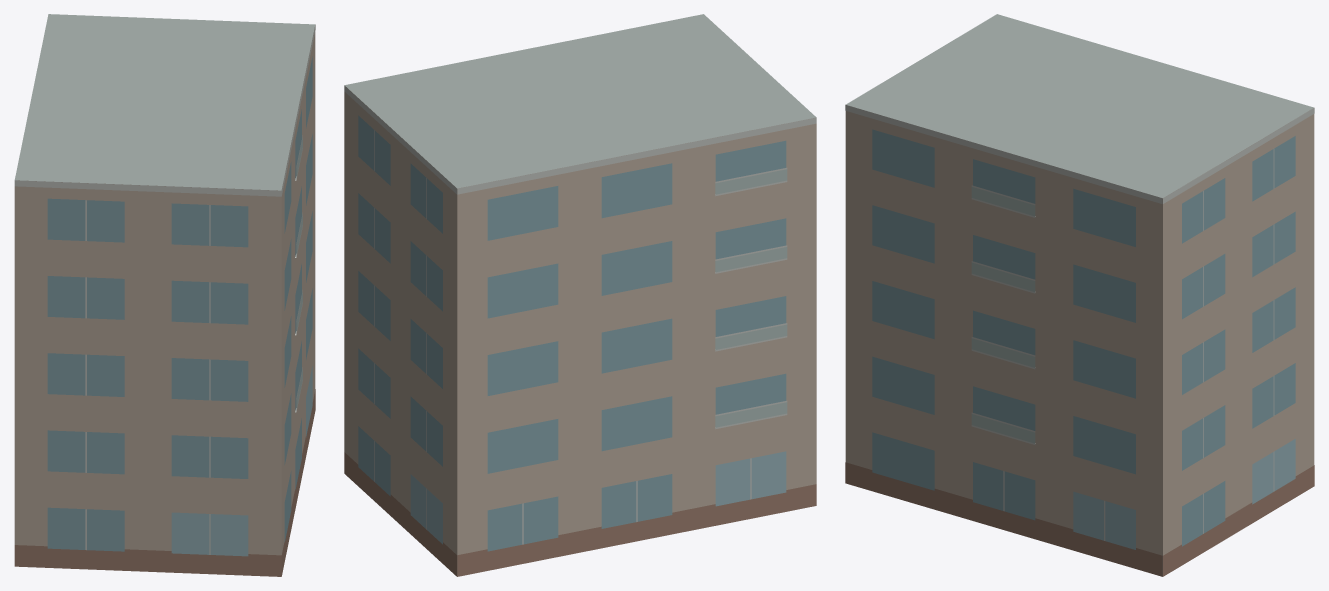
Rendered from survey-upis-32551061.glb.
The picture shows the model from 3 angles, left to right: view 1: azimuth 30°, elevation 25°; view 2: azimuth 150°, elevation 25°; view 3: azimuth 270°, elevation 25°; orthographic projection. The views are drawn at different scales.
Visible parts, largest first — view 1: survey-upis-32551061.tmp; view 2: survey-upis-32551061.tmp; view 3: survey-upis-32551061.tmp.
Part boxes in pixels (<box>): survey-upis-32551061.tmp: <box>14,14,315,576</box>; survey-upis-32551061.tmp: <box>344,14,816,576</box>; survey-upis-32551061.tmp: <box>845,14,1314,576</box>.
Size of the model in its own units: 16.08 by 15.4 by 17.29.
